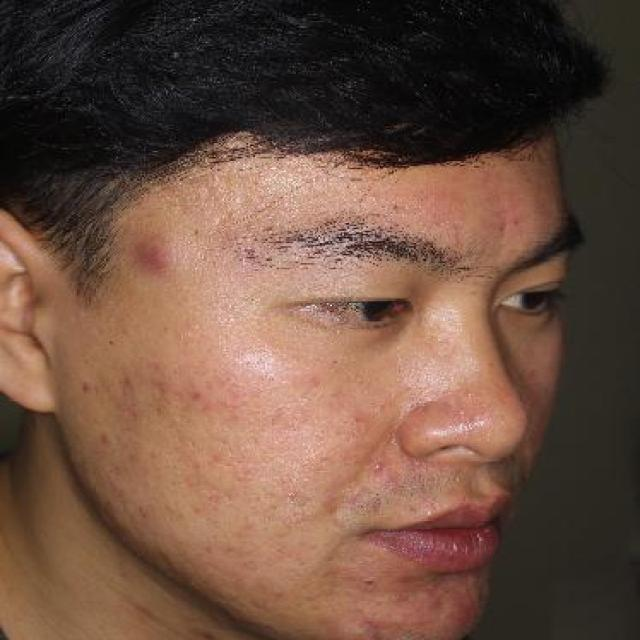Acne: (132, 232, 192, 277), (234, 243, 263, 268), (180, 386, 205, 406)
Blackheads: (356, 572, 386, 593)
Dark-Spots: (100, 333, 126, 355)
Whiteheads: (364, 454, 398, 480)
